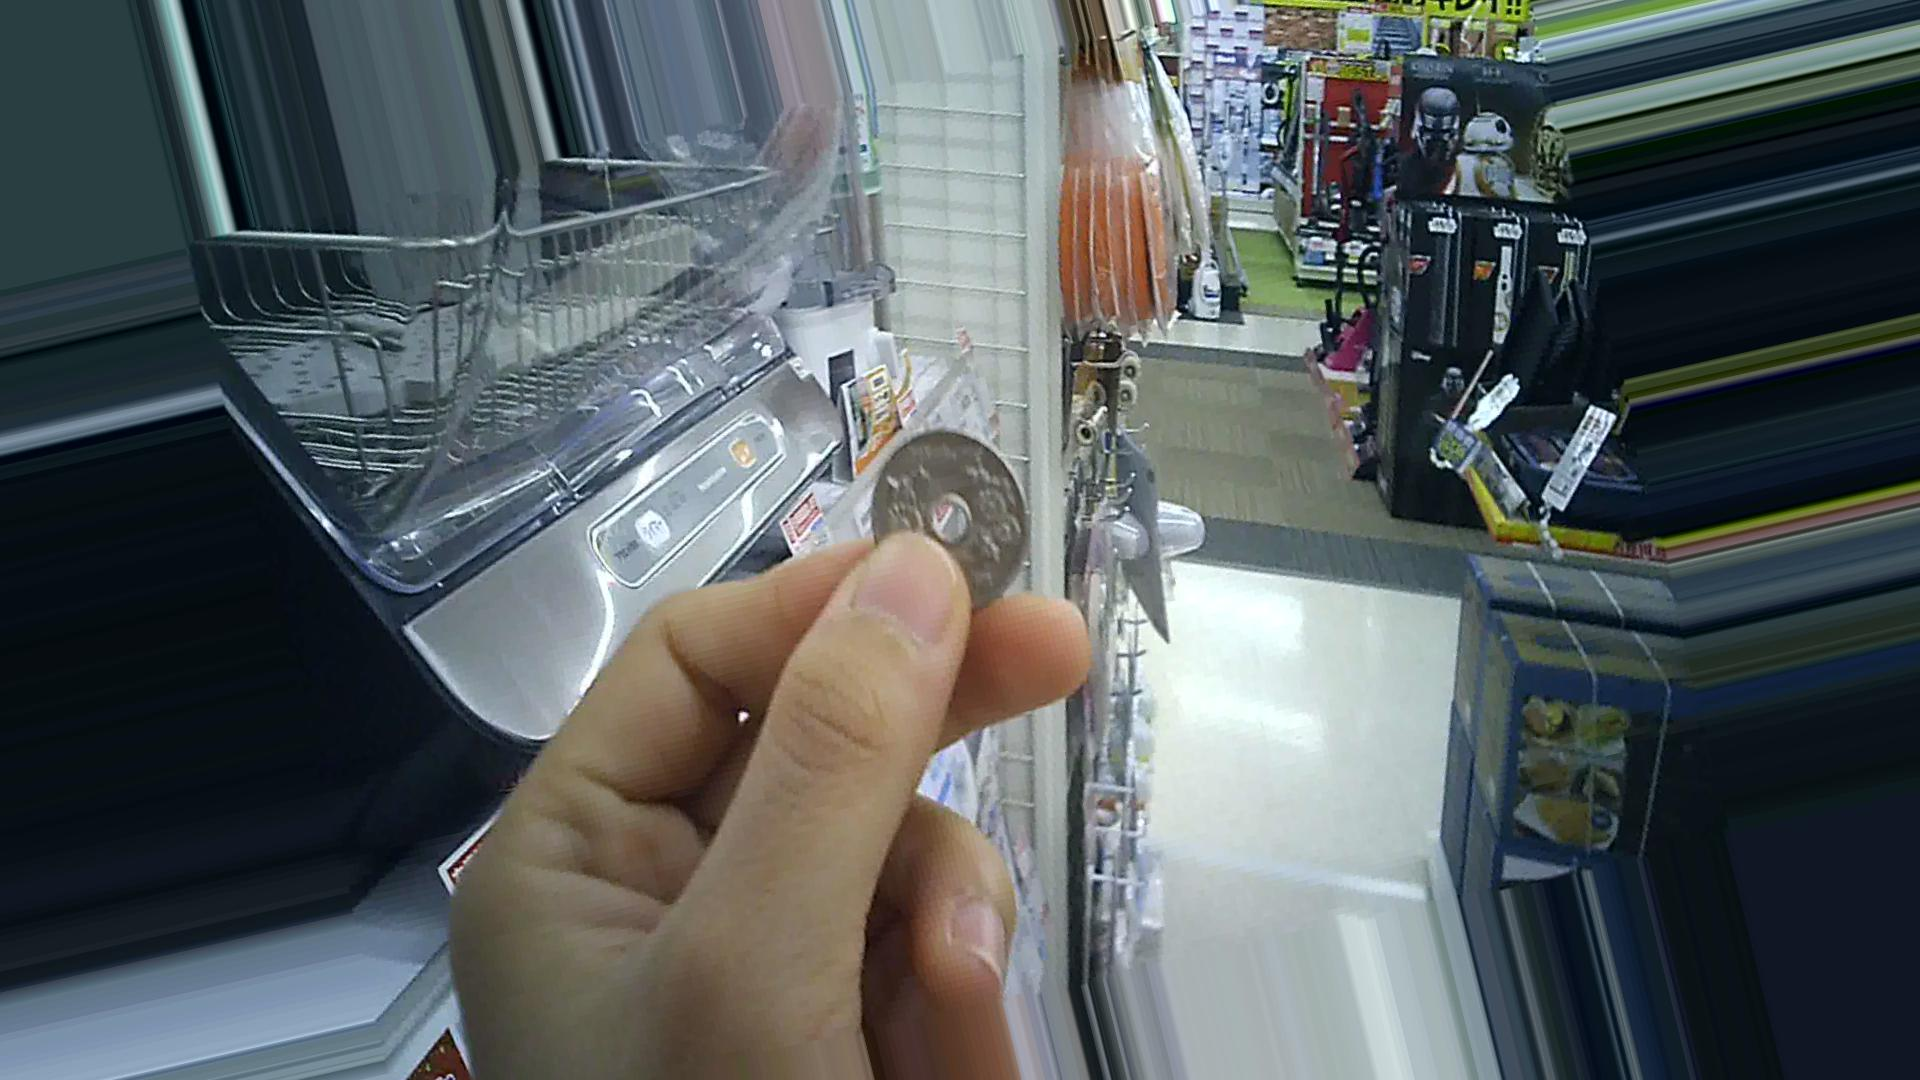50 Yen: (866, 404, 1021, 611)
